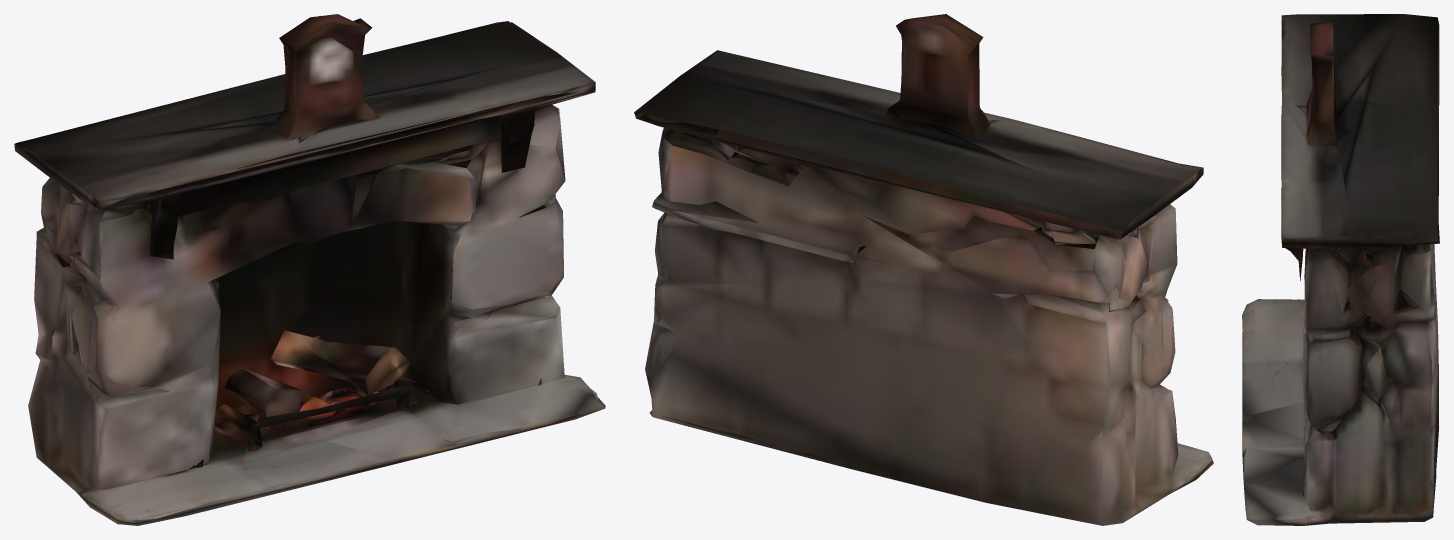
The model's file is chimenea.movil.glb.
3 views of the same model, side by side, from view 1: azimuth 30°, elevation 25°; view 2: azimuth 150°, elevation 25°; view 3: azimuth 270°, elevation 25° (orthographic). The views are drawn at different scales.
Parts seen in each view (by area): view 1: geometry_0; view 2: geometry_0; view 3: geometry_0.
Part boxes in pixels (left/top/right/bottom): geometry_0: left=14, top=14, right=605, bottom=525; geometry_0: left=634, top=14, right=1213, bottom=525; geometry_0: left=1242, top=14, right=1439, bottom=525.
Bounding box in the file's own units: 1.6 × 1.29 × 0.5979.
1 material, 1 textured.
